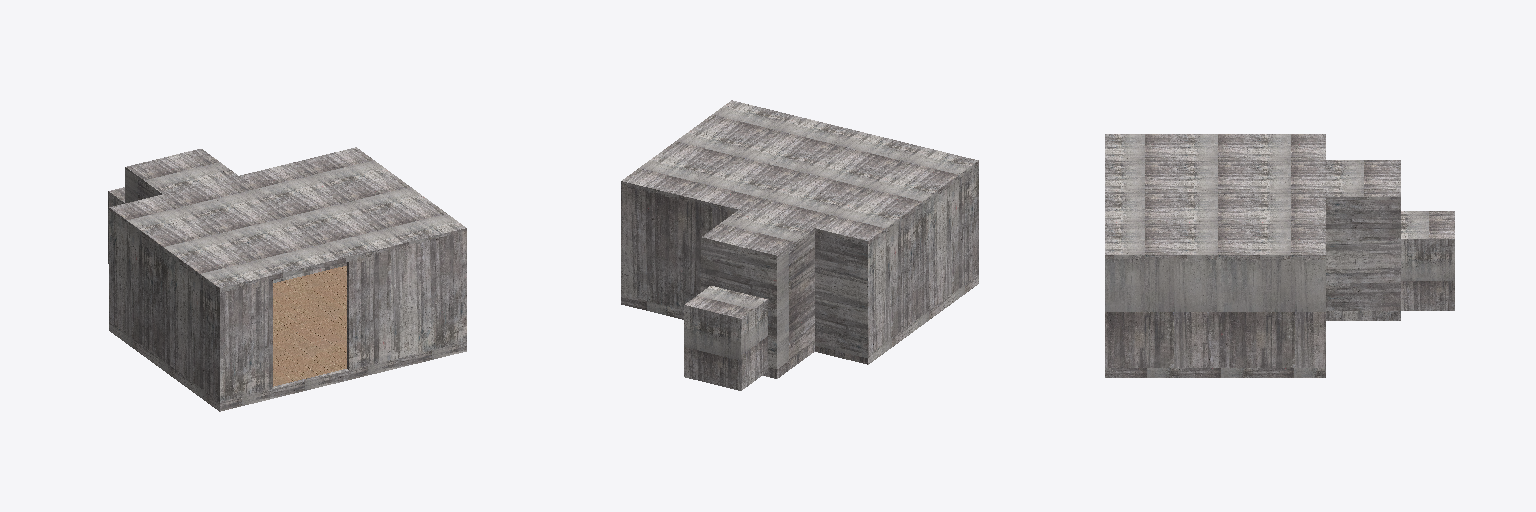
3 renders of one model, left to right at view 1: azimuth 30°, elevation 25°; view 2: azimuth 150°, elevation 25°; view 3: azimuth 270°, elevation 25°, orthographic.
Parts seen in each view (by area): view 1: Cube.003_Cube.004; view 2: Cube.003_Cube.004; view 3: Cube.003_Cube.004.
Part boxes in pixels (x1,y1,x2,y2): Cube.003_Cube.004: (108, 147, 466, 411); Cube.003_Cube.004: (621, 100, 978, 390); Cube.003_Cube.004: (1105, 134, 1454, 377).
Size of the model in its own units: 9.71 by 4.64 by 11.88.
Materials: 2 (2 with a texture image).